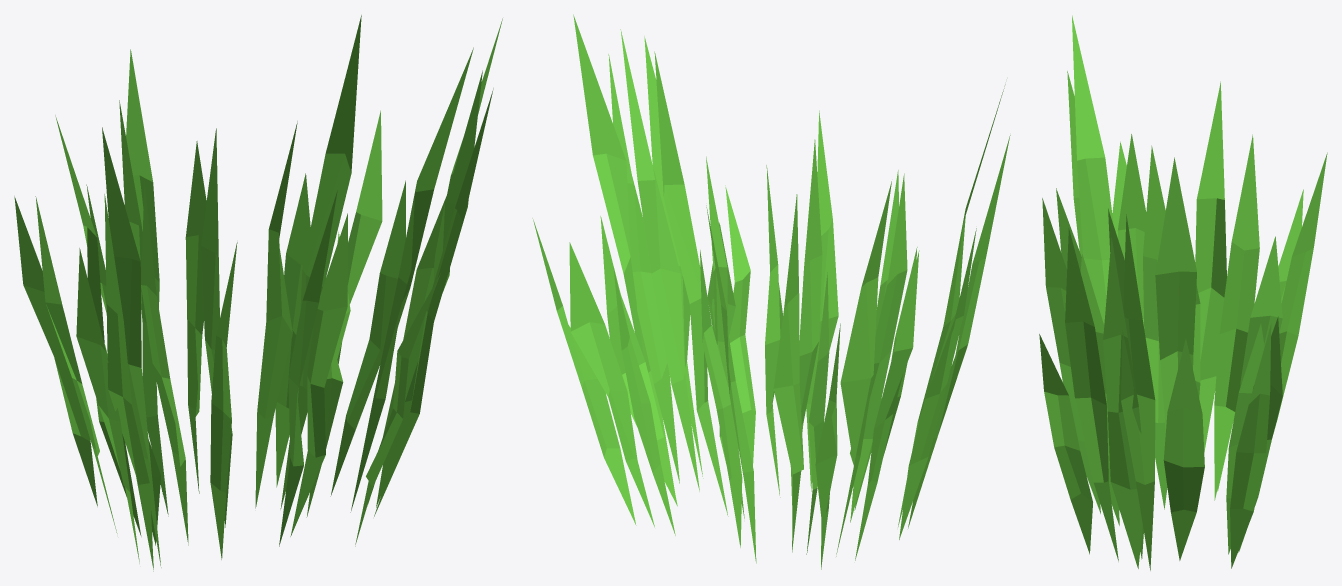
The model's file is grass.003.fbx.
3 views of the same model, side by side, from view 1: azimuth 30°, elevation 25°; view 2: azimuth 150°, elevation 25°; view 3: azimuth 270°, elevation 25° (orthographic). The views are drawn at different scales.
Parts seen in each view (by area): view 1: Plane; view 2: Plane; view 3: Plane.
Part boxes in pixels (x1,y1,x2,y2): Plane: (14,15,502,571); Plane: (532,14,1010,569); Plane: (1039,15,1327,570).
Bounding box in the file's own units: 3.65 × 3.97 × 2.42.
